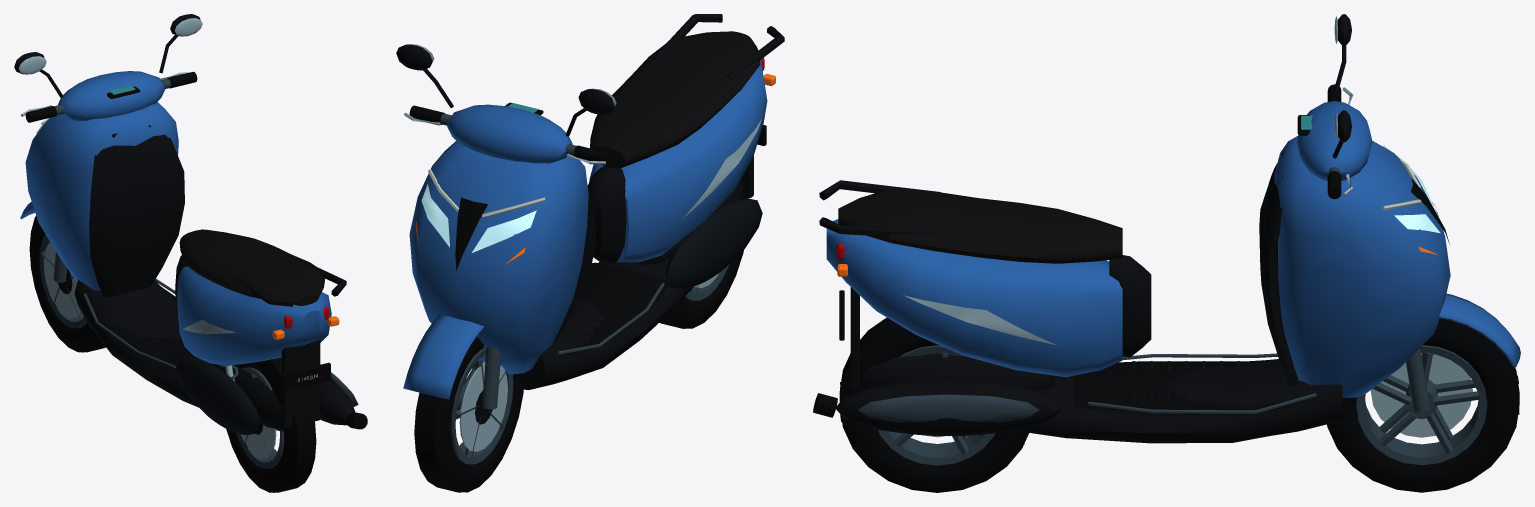
Rendered from sport_scooter_cobalt.glb.
The picture shows the model from 3 angles, left to right: view 1: azimuth 30°, elevation 25°; view 2: azimuth 150°, elevation 25°; view 3: azimuth 270°, elevation 25°; orthographic projection. The views are drawn at different scales.
Visible parts, largest first — view 1: Body_Mesh, Steering_Pivot_Mesh, Wheel_Rear_Mesh, Wheel_Front_Mesh; view 2: Body_Mesh, Steering_Pivot_Mesh, Wheel_Front_Mesh, Wheel_Rear_Mesh, Headlights_Mesh; view 3: Body_Mesh, Wheel_Front_Mesh, Wheel_Rear_Mesh, Steering_Pivot_Mesh, Headlights_Mesh.
Part boxes in pixels (x1,y1,x2,y2): Body_Mesh: [25, 102, 367, 435]; Steering_Pivot_Mesh: [14, 14, 202, 282]; Wheel_Rear_Mesh: [226, 357, 316, 492]; Wheel_Front_Mesh: [29, 215, 105, 352]; Body_Mesh: [409, 14, 784, 389]; Steering_Pivot_Mesh: [396, 44, 616, 409]; Wheel_Front_Mesh: [414, 337, 523, 492]; Wheel_Rear_Mesh: [659, 176, 748, 328]; Headlights_Mesh: [421, 169, 545, 252]; Body_Mesh: [813, 136, 1450, 443]; Wheel_Front_Mesh: [1327, 318, 1519, 492]; Wheel_Rear_Mesh: [839, 317, 1028, 492]; Steering_Pivot_Mesh: [1296, 14, 1520, 412]; Headlights_Mesh: [1381, 146, 1440, 233].
Size of the model in its own units: 0.72 by 1.23 by 1.87.
2 materials, 1 textured.
